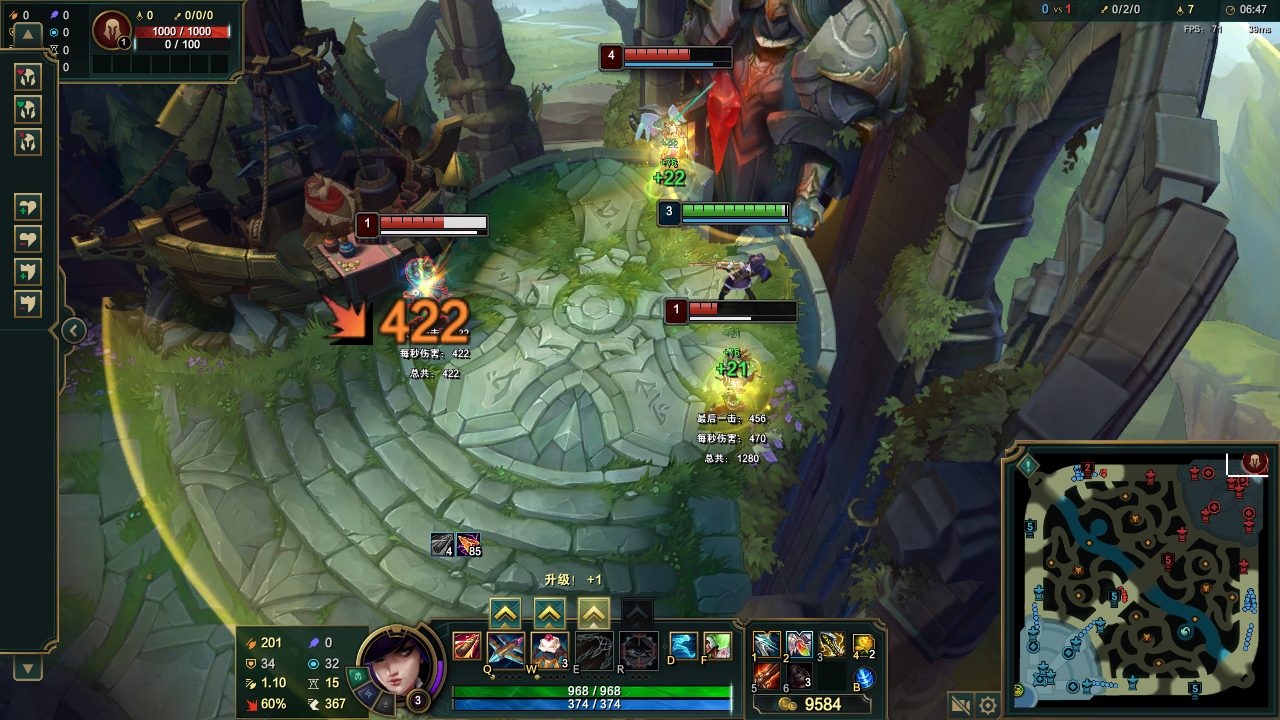DFYX: (689, 297, 804, 316), (625, 48, 732, 62), (381, 216, 444, 229)
